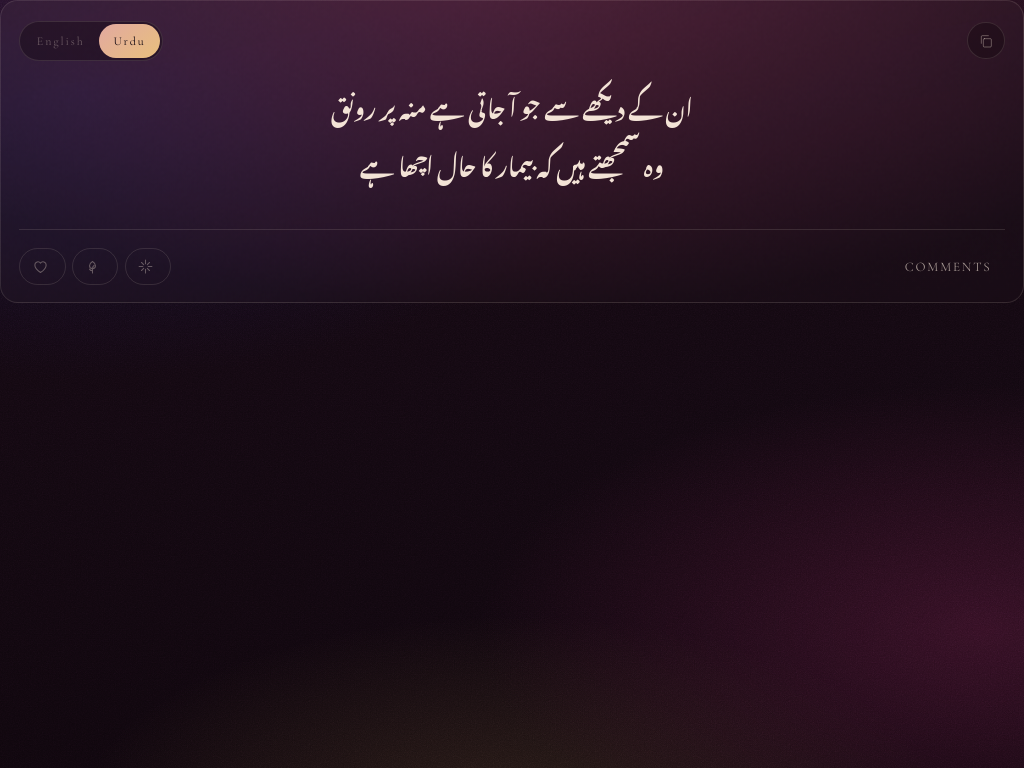
it: an Urdu card › switches to Roman Urdu and the meaning
What coordinates should you click on to do the following:
click the tab "English"
I would click on:
 (61, 41)
Its box is [22,24,99,58].
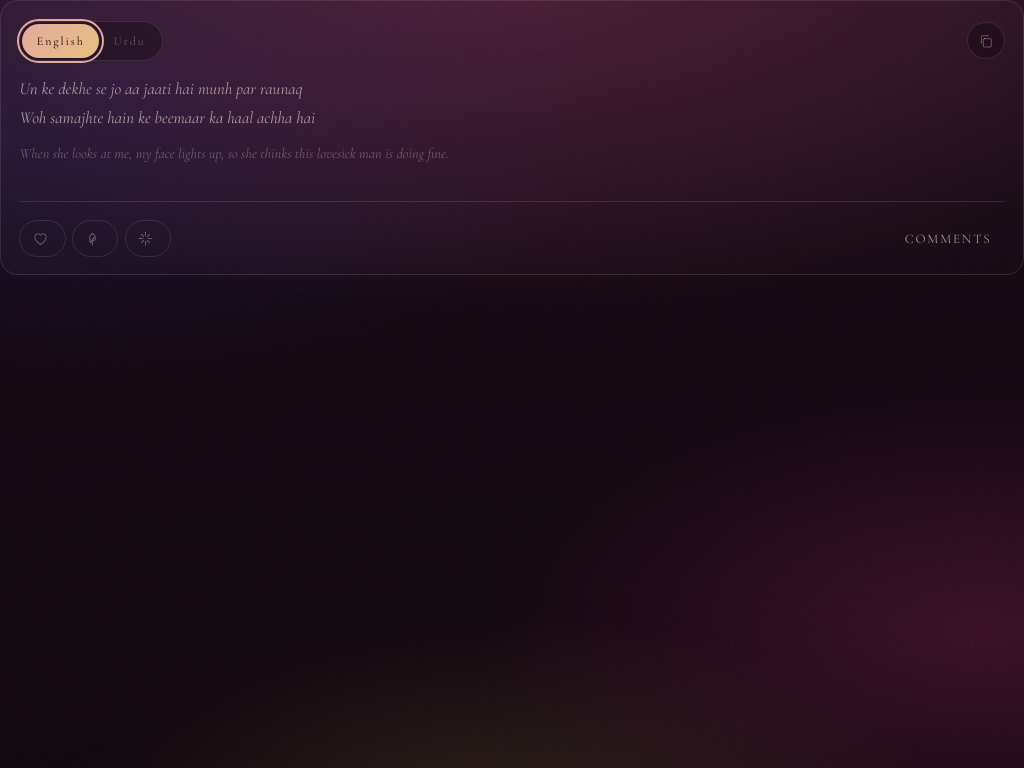
expect the text "When she looks at me, my face lights up, so she thinks this lovesick man is doing fine." is shown: met, box [19,145,449,162]
expect the element with class "classic__urdu" is gone: met
